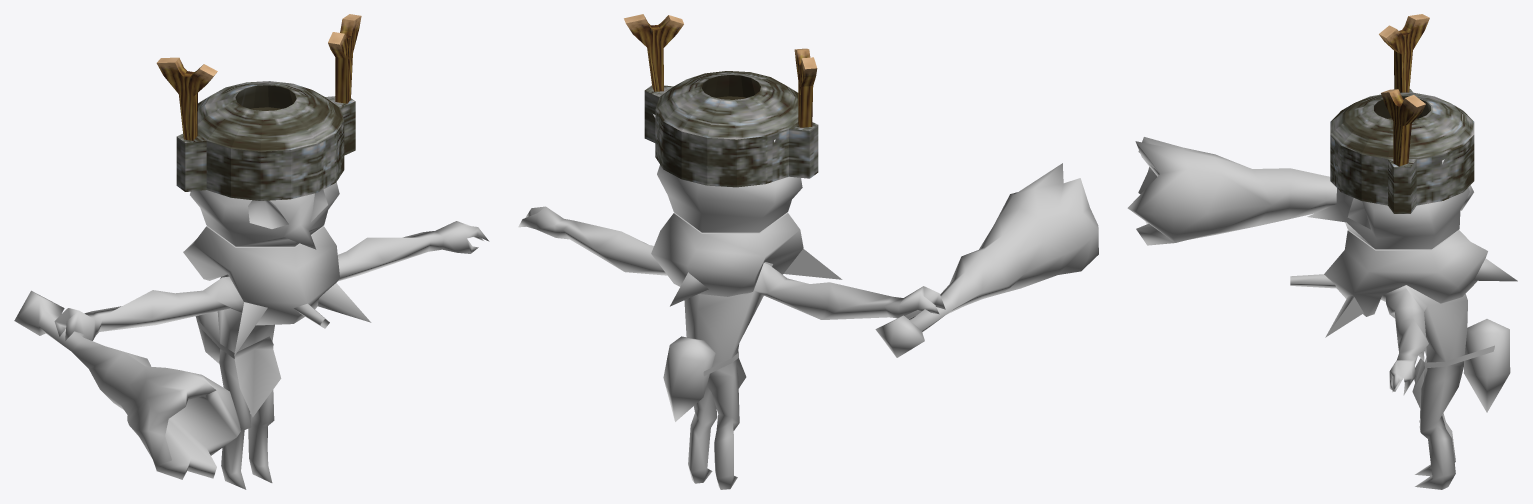
File: king_shakalaka.obj
3 renders of one model, left to right at view 1: azimuth 30°, elevation 25°; view 2: azimuth 150°, elevation 25°; view 3: azimuth 270°, elevation 25°, orthographic. The views are drawn at different scales.
Visible parts, largest first — view 1: em79-0001-0, 1, em79-0001-2, em79-0001-1; view 2: em79-0001-0, 1, em79-0001-2, em79-0001-1; view 3: em79-0001-0, 1, em79-0001-2, em79-0001-1.
Part boxes in pixels (x1=…): em79-0001-0: x1=54, y1=221, x2=489, y2=489; 1: x1=156, y1=14, x2=361, y2=200; em79-0001-2: x1=14, y1=290, x2=240, y2=479; em79-0001-1: x1=190, y1=182, x2=339, y2=249; em79-0001-0: x1=518, y1=206, x2=945, y2=489; 1: x1=624, y1=14, x2=818, y2=187; em79-0001-2: x1=875, y1=163, x2=1098, y2=357; em79-0001-1: x1=653, y1=114, x2=802, y2=232; em79-0001-0: x1=1290, y1=230, x2=1517, y2=489; 1: x1=1330, y1=14, x2=1474, y2=213; em79-0001-2: x1=1127, y1=137, x2=1473, y2=245; em79-0001-1: x1=1307, y1=159, x2=1469, y2=249.
Bounding box in the file's own units: 147 × 134 × 112.
